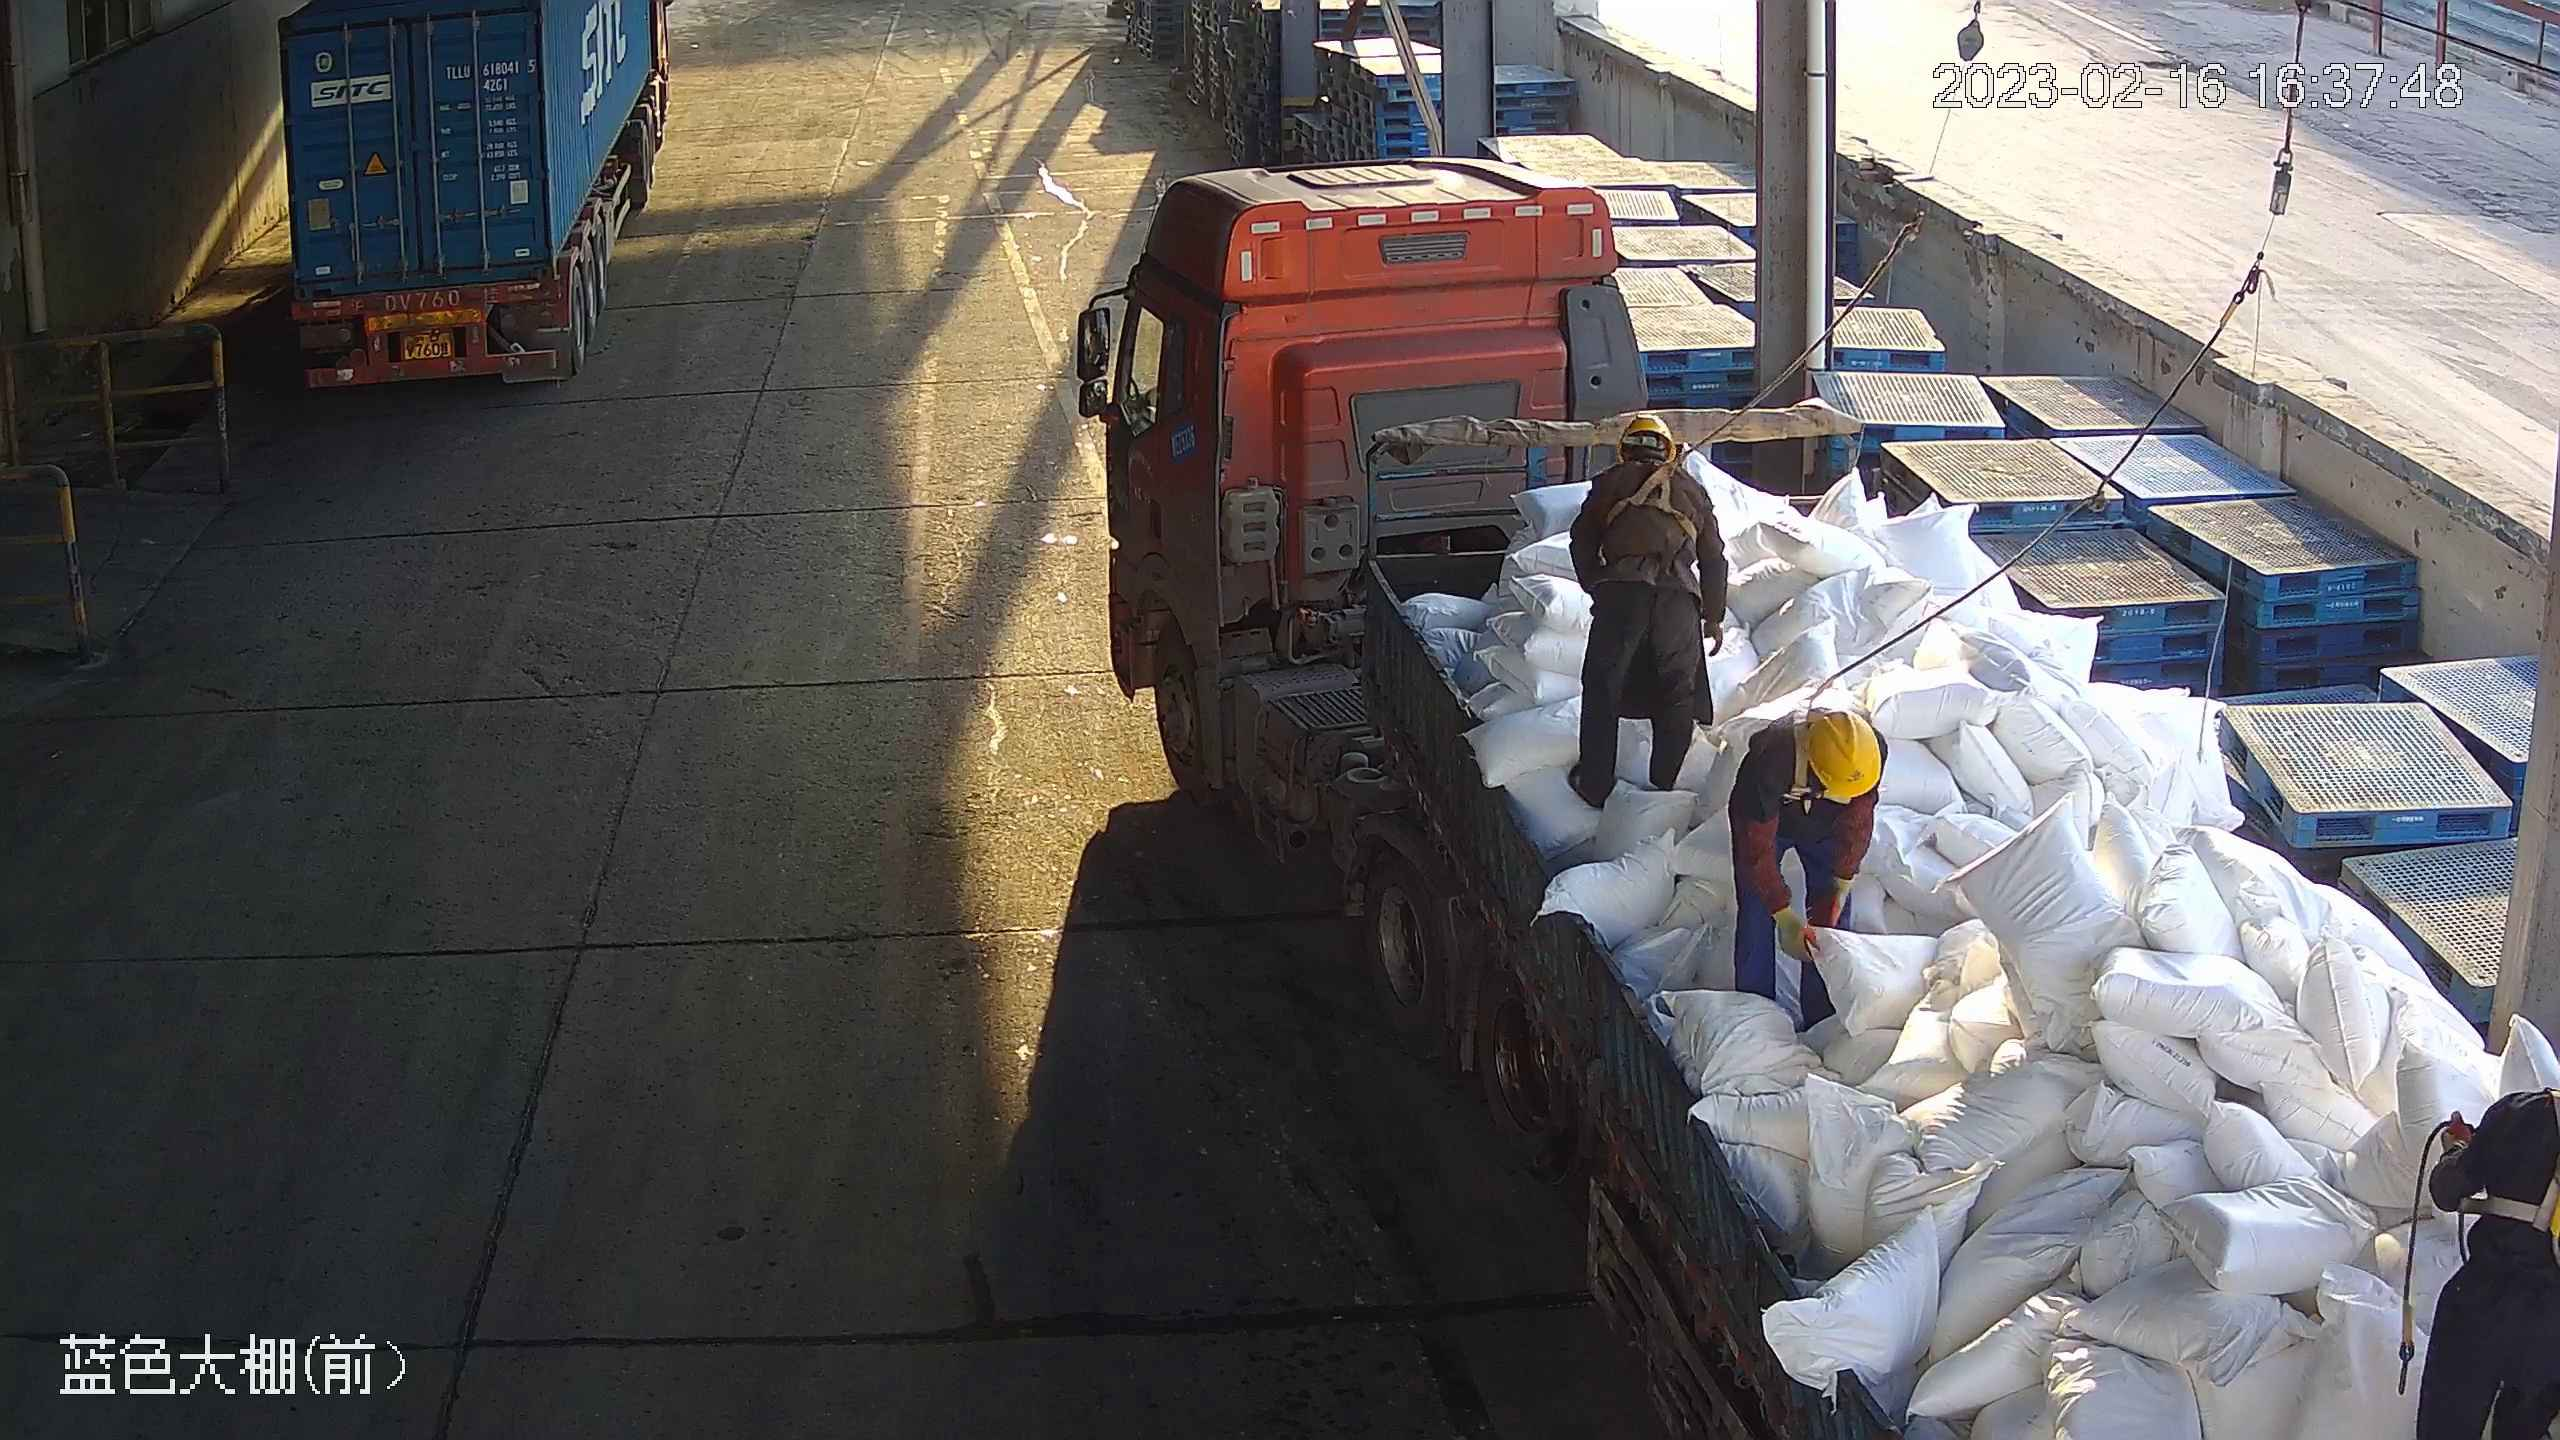belt: (1607, 453, 1698, 541), (1785, 712, 1851, 814)
head: (1744, 710, 1886, 809), (1585, 414, 1707, 523)
helmet: (1804, 708, 1883, 797), (1619, 412, 1673, 462)
people: (1565, 414, 1729, 813), (1729, 708, 1889, 1030)
truck: (1074, 157, 2560, 1440), (274, 1, 671, 392)
